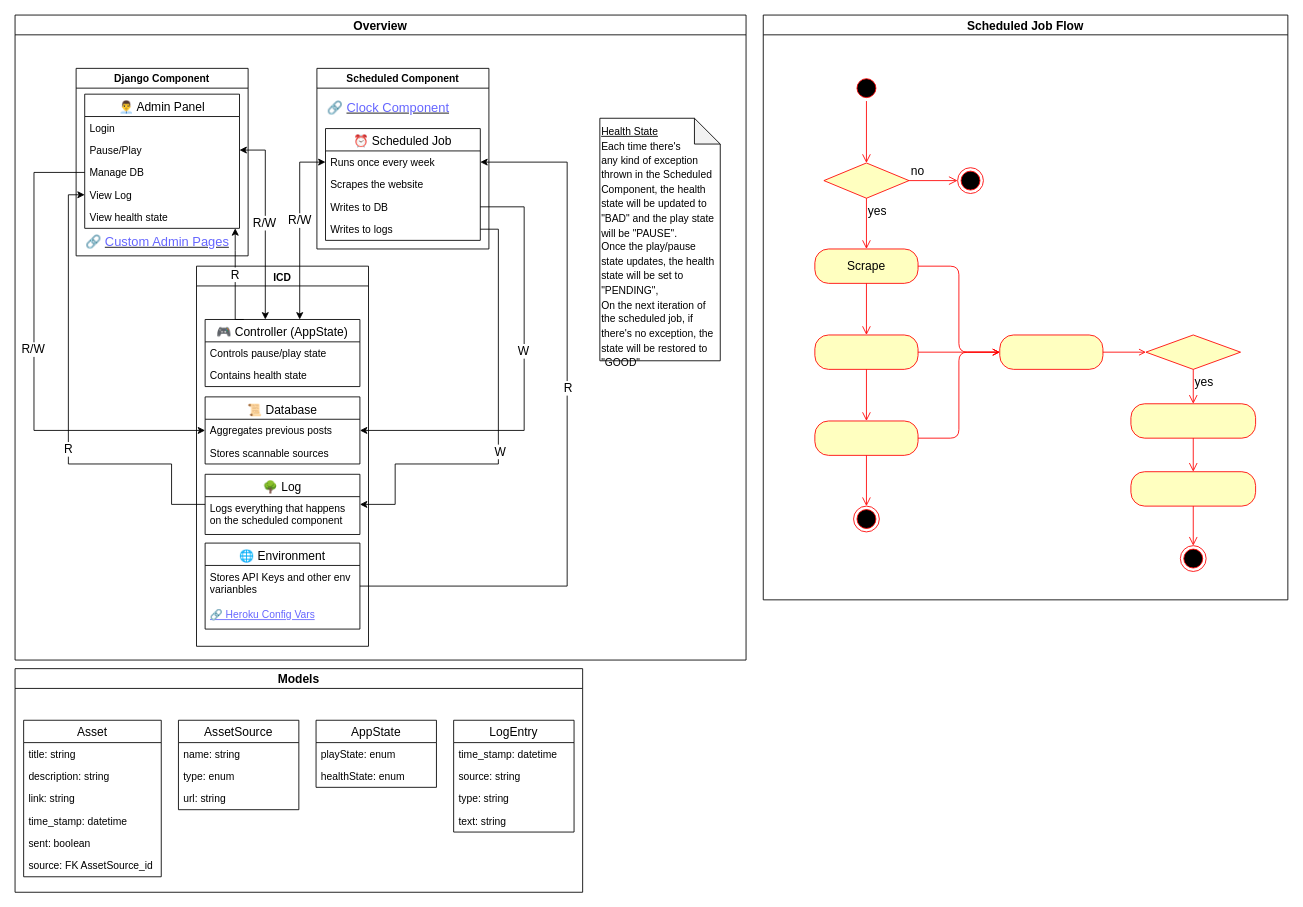
Image size: 1303x907. Some labels were removed from this diagram. The centre of each missing label's shape, as x and y in pixels:
Append Log: the point at 1051,351
Exception?: the point at 1193,351
HealthState = BAD: the point at 1193,420
Persist: the point at 866,351
PLAY?: the point at 866,180
PlayState = PAUSE: the point at 1193,488
Post: the point at 866,437
